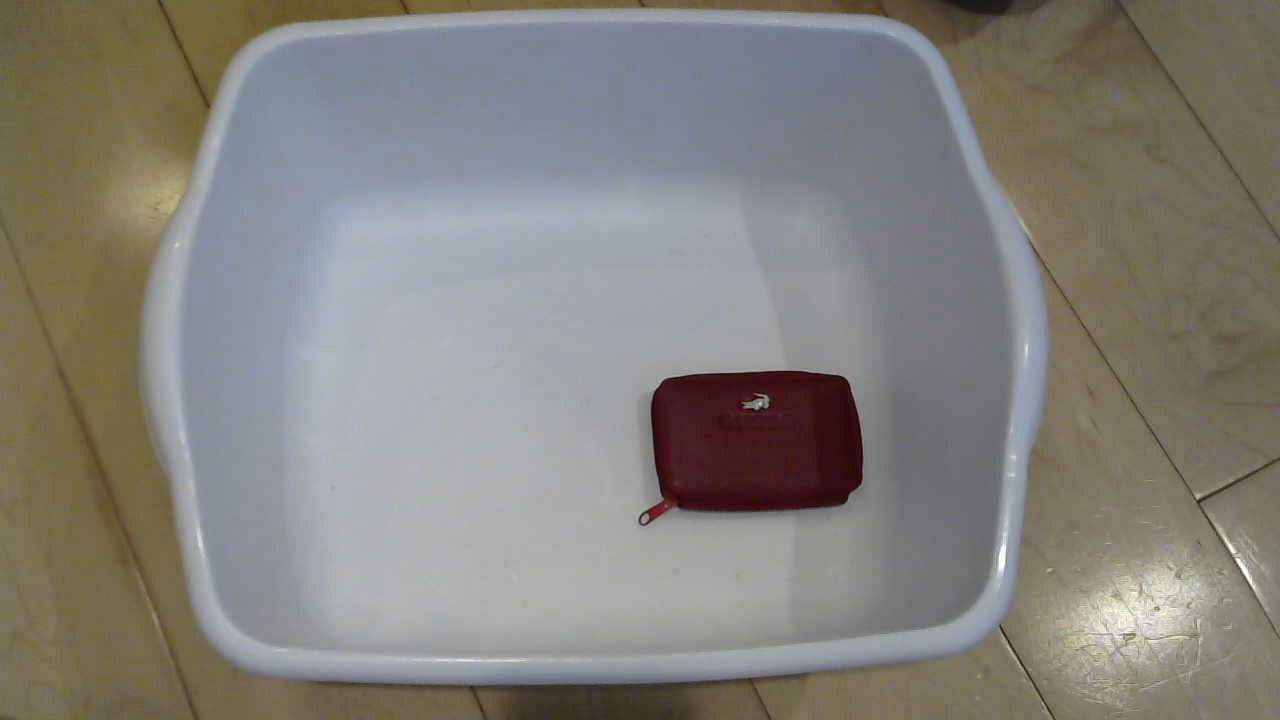wallet: (646, 353, 903, 545)
